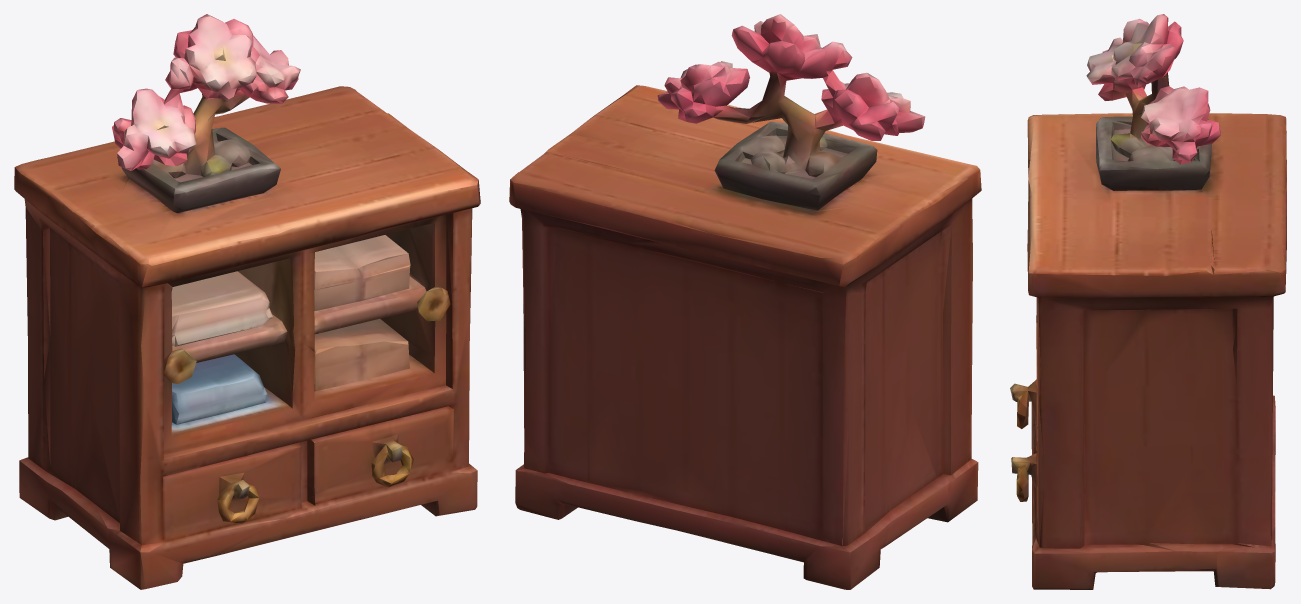
File: cabinet21.glb
3 renders of one model, left to right at view 1: azimuth 30°, elevation 25°; view 2: azimuth 150°, elevation 25°; view 3: azimuth 270°, elevation 25°, orthographic. The views are drawn at different scales.
Bounding box in the file's own units: 0.2161 × 0.299 × 0.1565.
Materials: 1 (1 with a texture image).
